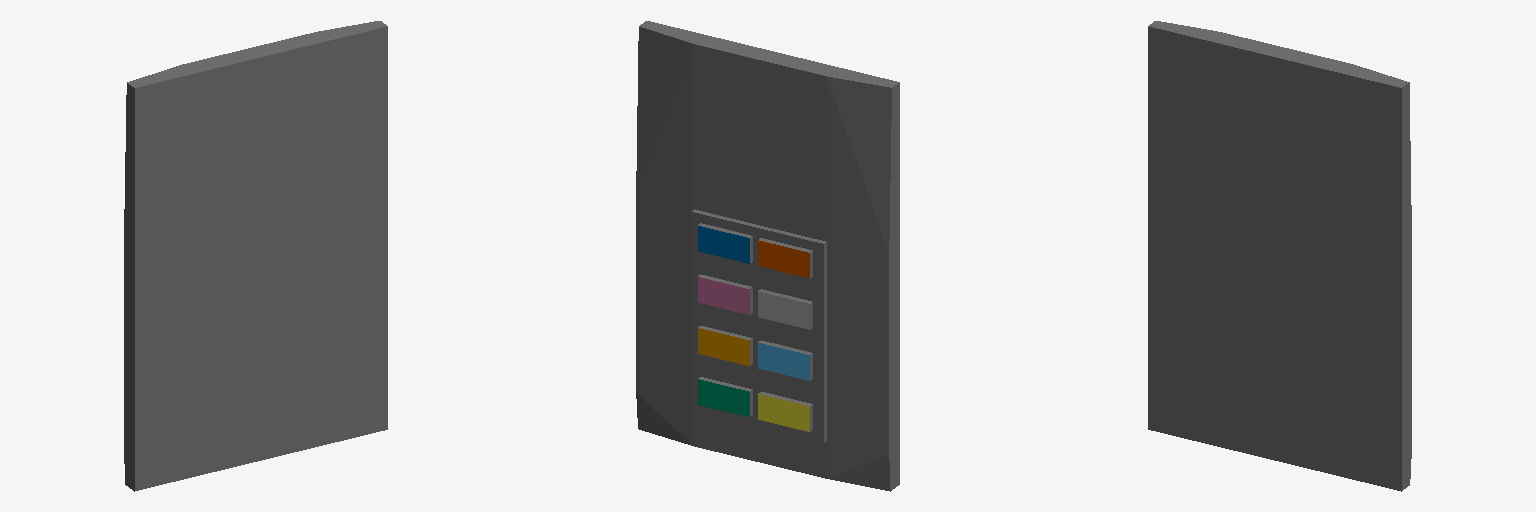
robot.urdf — elevator:
<?xml version="1.0"?>
<robot name="elevator">

  <!-- =========================
       Static elevator body
       ========================= -->
  <link name="cabin_link">
    <visual>
      <origin xyz="0 0 0" rpy="0 0 0"/>
      <geometry>
        <mesh filename="static_elevator.dae" scale="1 1 1"/>
      </geometry>
    </visual>

    <collision>
      <origin xyz="0 0 0" rpy="0 0 0"/>
      <geometry>
        <box size="4.2356 0.2952 3.2904"/>
      </geometry>
    </collision>

    <inertial>
      <origin xyz="0 0 0" rpy="0 0 0"/>
      <mass value="50.0"/>
      <inertia ixx="10" ixy="0" ixz="0" iyy="10" iyz="0" izz="10"/>
    </inertial>
  </link>

  <link name="panel_link">
    <visual>
      <origin xyz="0 0 0" rpy="0 0 0"/>
      <geometry>
        <mesh filename="elevator_panel.dae" scale="1 1 1"/>
      </geometry>
    </visual>

    <collision>
      <origin xyz="0 0 0" rpy="0 0 0"/>
      <geometry>
        <box size="0.1 0.1 0.1"/>
      </geometry>
    </collision>

    <inertial>
      <origin xyz="0 0 0" rpy="0 0 0"/>
      <mass value="50.0"/>
      <inertia ixx="10" ixy="0" ixz="0" iyy="10" iyz="0" izz="10"/>
    </inertial>
  </link>

  <joint name="panel_joint" type="fixed">
    <parent link="cabin_link"/>
    <child link="panel_link"/>
    <origin xyz="0 0 0" rpy="0 0 0"/>
  </joint>

  <link name="door1_link">
    <visual>
      <origin xyz="0 0 0" rpy="0 0 0"/>
      <geometry>
        <mesh filename="door1.dae" scale="1 1 1"/>
      </geometry>
    </visual>

    <collision>
      <origin xyz="0 0 0" rpy="0 0 0"/>
      <geometry>
        <box size="0.1 0.1 0.1"/>
      </geometry>
    </collision>

    <inertial>
      <origin xyz="0 0 0" rpy="0 0 0"/>
      <mass value="5.0"/>
      <inertia ixx="0.5" ixy="0" ixz="0" iyy="0.5" iyz="0" izz="0.5"/>
    </inertial>
  </link>

  <joint name="door1_joint" type="prismatic">
    <parent link="cabin_link"/>
    <child link="door1_link"/>
    <origin xyz="0.74 0.11 1.37" rpy="0 0 0"/>
    <!-- Move direction: -X -->
    <axis xyz="-1 0 0"/>
    <!-- 80 cm travel -->
    <limit lower="0.0" upper="0.8" effort="20" velocity="0.2"/>
  </joint>

  <link name="door2_link">
    <visual>
      <origin xyz="0 0 0" rpy="0 0 0"/>
      <geometry>
        <mesh filename="door2.dae" scale="1 1 1"/>
      </geometry>
    </visual>

    <collision>
      <origin xyz="0 0 0" rpy="0 0 0"/>
      <geometry>
        <box size="0.1 0.1 0.1"/>
      </geometry>
    </collision>

    <inertial>
      <origin xyz="0 0 0" rpy="0 0 0"/>
      <mass value="5.0"/>
      <inertia ixx="0.5" ixy="0" ixz="0" iyy="0.5" iyz="0" izz="0.5"/>
    </inertial>
  </link>

  <joint name="door2_joint" type="prismatic">
    <parent link="cabin_link"/>
    <child link="door2_link"/>
    <origin xyz="-0.22 0.09 1.37" rpy="0 0 0"/>
  </joint>

  <!-- =========================
       Buttons (static collision)
       ========================= -->
  <link name="button_0_0_link">
    <visual>
      <origin xyz="0 0 0" rpy="0 0 0"/>
      <geometry>
        <mesh filename="button_5.dae" scale="1 1 1"/>
      </geometry>
    </visual>

    <collision>
      <origin xyz="0 0 0" rpy="0 0 0"/>
      <geometry>
        <box size="0.19 0.02 0.09"/>
      </geometry>
    </collision>

    <inertial>
      <origin xyz="0 0 0" rpy="0 0 0"/>
      <mass value="0.1"/>
      <inertia ixx="0.001" ixy="0" ixz="0" iyy="0.001" iyz="0" izz="0.001"/>
    </inertial>
  </link>

  <joint name="button_0_0_joint" type="prismatic">
    <parent link="cabin_link"/>
    <child link="button_0_0_link"/>
    <origin xyz="-1.75 0.24119 1.625" rpy="0 0 0"/>
    <!-- Press direction: -Y -->
    <axis xyz="0 -1 0"/>
    <!-- 1 cm travel -->
    <limit lower="0.0" upper="0.01" effort="20" velocity="0.2"/>
  </joint>

  <link name="button_0_1_link">
    <visual>
      <origin xyz="0 0 0" rpy="0 0 0"/>
      <geometry>
        <mesh filename="button_6.dae" scale="1 1 1"/>
      </geometry>
    </visual>

    <collision>
      <origin xyz="0 0 0" rpy="0 0 0"/>
      <geometry>
        <box size="0.19 0.02 0.09"/>
      </geometry>
    </collision>

    <inertial>
      <origin xyz="0 0 0" rpy="0 0 0"/>
      <mass value="0.1"/>
      <inertia ixx="0.001" ixy="0" ixz="0" iyy="0.001" iyz="0" izz="0.001"/>
    </inertial>
  </link>

  <joint name="button_0_1_joint" type="prismatic">
    <parent link="cabin_link"/>
    <child link="button_0_1_link"/>
    <origin xyz="-1.97 0.24119 1.625" rpy="0 0 0"/>
    <!-- Press direction: -Y -->
    <axis xyz="0 -1 0"/>
    <!-- 1 cm travel -->
    <limit lower="0.0" upper="0.01" effort="20" velocity="0.2"/>
  </joint>

  <link name="button_1_0_link">
    <visual>
      <origin xyz="0 0 0" rpy="0 0 0"/>
      <geometry>
        <mesh filename="button_3.dae" scale="1 1 1"/>
      </geometry>
    </visual>

    <collision>
      <origin xyz="0 0 0" rpy="0 0 0"/>
      <geometry>
        <box size="0.19 0.02 0.09"/>
      </geometry>
    </collision>

    <inertial>
      <origin xyz="0 0 0" rpy="0 0 0"/>
      <mass value="0.1"/>
      <inertia ixx="0.001" ixy="0" ixz="0" iyy="0.001" iyz="0" izz="0.001"/>
    </inertial> 
  </link>

  <joint name="button_1_0_joint" type="prismatic">
    <parent link="cabin_link"/>
    <child link="button_1_0_link"/>
    <origin xyz="-1.75 0.24119 1.447" rpy="0 0 0"/>
    <!-- Press direction: -Y -->
    <axis xyz="0 -1 0"/>
    <!-- 1 cm travel -->
    <limit lower="0.0" upper="0.01" effort="20" velocity="0.2"/>
  </joint>

  <link name="button_1_1_link">
    <visual>
      <origin xyz="0 0 0" rpy="0 0 0"/>
      <geometry>
        <mesh filename="button_4.dae" scale="1 1 1"/>
      </geometry>
    </visual>

    <collision>
      <origin xyz="0 0 0" rpy="0 0 0"/>
      <geometry>
        <box size="0.19 0.02 0.09"/>
      </geometry>
    </collision>

    <inertial>
      <origin xyz="0 0 0" rpy="0 0 0"/>
      <mass value="0.1"/>
      <inertia ixx="0.001" ixy="0" ixz="0" iyy="0.001" iyz="0" izz="0.001"/>
    </inertial>
  </link>

  <joint name="button_1_1_joint" type="prismatic">
    <parent link="cabin_link"/>
    <child link="button_1_1_link"/>
    <origin xyz="-1.97 0.24119 1.447" rpy="0 0 0"/>
    <!-- Press direction: -Y -->
    <axis xyz="0 -1 0"/>
    <!-- 1 cm travel -->
    <limit lower="0.0" upper="0.01" effort="20" velocity="0.2"/>
  </joint>

  <link name="button_2_0_link">
    <visual>
      <origin xyz="0 0 0" rpy="0 0 0"/>
      <geometry>
        <mesh filename="button_ground.dae" scale="1 1 1"/>
      </geometry>
    </visual>

    <collision>
      <origin xyz="0 0 0" rpy="0 0 0"/>
      <geometry>
        <box size="0.19 0.02 0.09"/>
      </geometry>
    </collision>

    <inertial>
      <origin xyz="0 0 0" rpy="0 0 0"/>
      <mass value="0.1"/>
      <inertia ixx="0.001" ixy="0" ixz="0" iyy="0.001" iyz="0" izz="0.001"/>
    </inertial>
  </link>

  <joint name="button_2_0_joint" type="prismatic">
    <parent link="cabin_link"/>
    <child link="button_2_0_link"/>
    <origin xyz="-1.75 0.24119 1.269" rpy="0 0 0"/>
    <!-- Press direction: -Y -->
    <axis xyz="0 -1 0"/>
    <!-- 1 cm travel -->
    <limit lower="0.0" upper="0.01" effort="20" velocity="0.2"/>
  </joint>

  <link name="button_2_1_link">
    <visual>
      <origin xyz="0 0 0" rpy="0 0 0"/>
      <geometry>
        <mesh filename="button_2.dae" scale="1 1 1"/>
      </geometry>
    </visual>

    <collision>
      <origin xyz="0 0 0" rpy="0 0 0"/>
      <geometry>
        <box size="0.19 0.02 0.09"/>
      </geometry>
    </collision>

    <inertial>
      <origin xyz="0 0 0" rpy="0 0 0"/>
      <mass value="0.1"/>
      <inertia ixx="0.001" ixy="0" ixz="0" iyy="0.001" iyz="0" izz="0.001"/>
    </inertial>
  </link>

  <joint name="button_2_1_joint" type="prismatic">
    <parent link="cabin_link"/>
    <child link="button_2_1_link"/>
    <origin xyz="-1.97 0.24119 1.269" rpy="0 0 0"/>
    <!-- Press direction: -Y -->
    <axis xyz="0 -1 0"/>
    <!-- 1 cm travel -->
    <limit lower="0.0" upper="0.01" effort="20" velocity="0.2"/>
  </joint>

  <link name="button_3_0_link">
    <visual>
      <origin xyz="0 0 0" rpy="0 0 0"/>
      <geometry>
        <mesh filename="button_open.dae" scale="1 1 1"/>
      </geometry>
    </visual>

    <collision>
      <origin xyz="0 0 0" rpy="0 0 0"/>
      <geometry>
        <box size="0.19 0.02 0.09"/>
      </geometry>
    </collision>

    <inertial>
      <origin xyz="0 0 0" rpy="0 0 0"/>
      <mass value="0.1"/>
      <inertia ixx="0.001" ixy="0" ixz="0" iyy="0.001" iyz="0" izz="0.001"/>
    </inertial>
  </link>

  <joint name="button_3_0_joint" type="prismatic">
    <parent link="cabin_link"/>
    <child link="button_3_0_link"/>
    <origin xyz="-1.75 0.24119 1.091" rpy="0 0 0"/>
    <!-- Press direction: -Y -->
    <axis xyz="0 -1 0"/>
    <!-- 1 cm travel -->
    <limit lower="0.0" upper="0.01" effort="20" velocity="0.2"/>
  </joint>

  <link name="button_3_1_link">
    <visual>
      <origin xyz="0 0 0" rpy="0 0 0"/>
      <geometry>
        <mesh filename="button_close.dae" scale="1 1 1"/>
      </geometry>
    </visual>

    <collision>
      <origin xyz="0 0 0" rpy="0 0 0"/>
      <geometry>
        <box size="0.19 0.02 0.09"/>
      </geometry>
    </collision>

    <inertial>
      <origin xyz="0 0 0" rpy="0 0 0"/>
      <mass value="0.1"/>
      <inertia ixx="0.001" ixy="0" ixz="0" iyy="0.001" iyz="0" izz="0.001"/>
    </inertial>
  </link>

  <joint name="button_3_1_joint" type="prismatic">
    <parent link="cabin_link"/>
    <child link="button_3_1_link"/> 
    <origin xyz="-1.97 0.24119 1.091" rpy="0 0 0"/>
    <!-- Press direction: -Y -->
    <axis xyz="0 -1 0"/>
    <!-- 1 cm travel -->
    <limit lower="0.0" upper="0.01" effort="20" velocity="0.2"/>
  </joint>

</robot>

--- What the picture shows (computed from the rendered views, not written in the file) ---
Views: 3 orthographic renders of the robot side by side, from view 1: azimuth 30°, elevation 25°; view 2: azimuth 150°, elevation 25°; view 3: azimuth 330°, elevation 25°.
Robot: elevator — 12 links, 11 joints (10 prismatic, 1 fixed); root link cabin_link; default pose: every joint at zero.
Visible links, largest first — view 1: panel_link; view 2: panel_link, button_0_1_link, button_0_0_link, button_1_0_link, button_1_1_link, button_2_1_link, button_3_0_link, button_2_0_link, button_3_1_link; view 3: panel_link.
Boxes of the visible links, x1=… form: panel_link: x1=124, y1=21, x2=387, y2=491; panel_link: x1=636, y1=21, x2=899, y2=491; button_0_1_link: x1=758, y1=238, x2=812, y2=278; button_0_0_link: x1=698, y1=223, x2=752, y2=263; button_1_0_link: x1=698, y1=274, x2=752, y2=314; button_1_1_link: x1=758, y1=289, x2=812, y2=329; button_2_1_link: x1=758, y1=340, x2=812, y2=380; button_3_0_link: x1=698, y1=377, x2=752, y2=417; button_2_0_link: x1=698, y1=326, x2=752, y2=365; button_3_1_link: x1=758, y1=392, x2=812, y2=431; panel_link: x1=1148, y1=21, x2=1411, y2=491.
Bounding box of the posed robot: 0.9213 × 0.1213 × 1.4 m (x, y, z).
9 mesh visuals loaded from 12 distinct referenced files (9 Collada DAE); not drawn: 1 (reference not matched to a file when rendering), 2 (file found but could not be loaded).